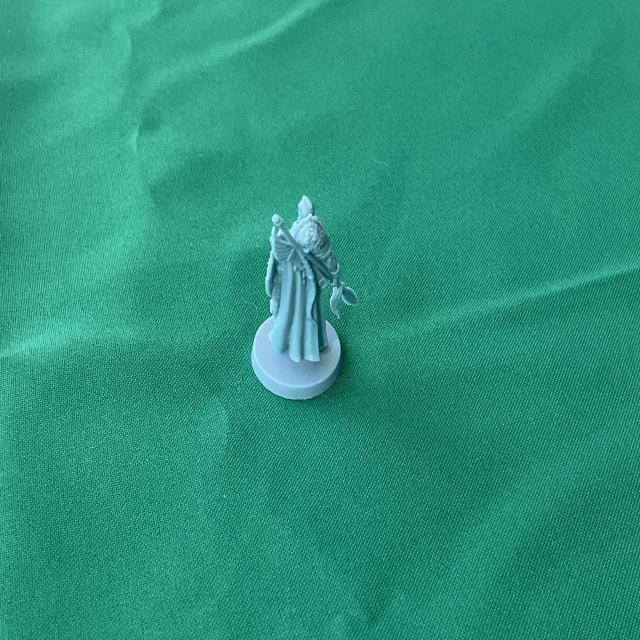isis_follower: (251, 191, 353, 403)
